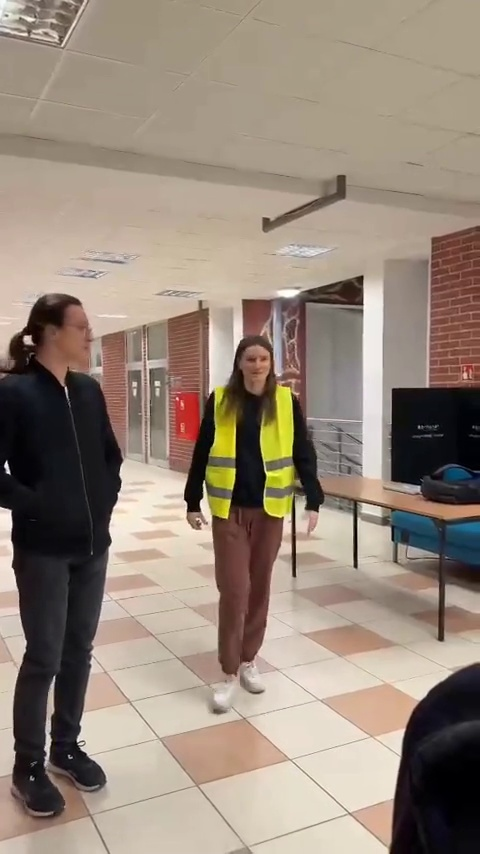no vest: (0, 283, 124, 824)
vest: (190, 335, 323, 722)
